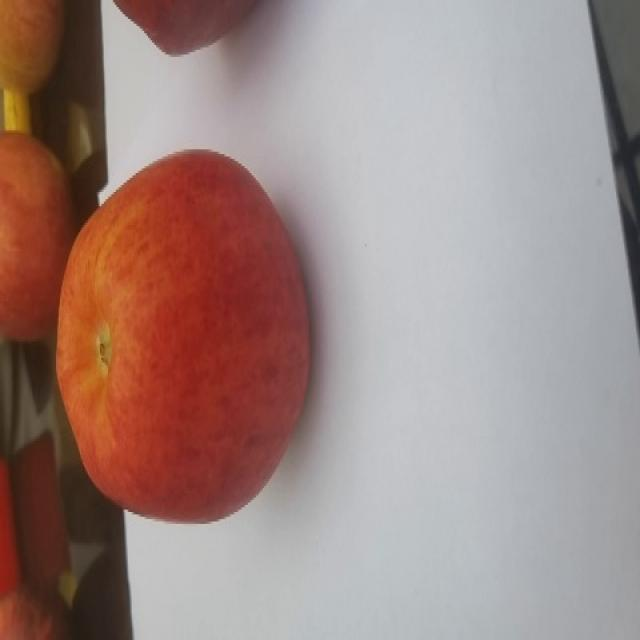Apple: (54, 147, 313, 524), (0, 129, 77, 343), (109, 0, 261, 56)
